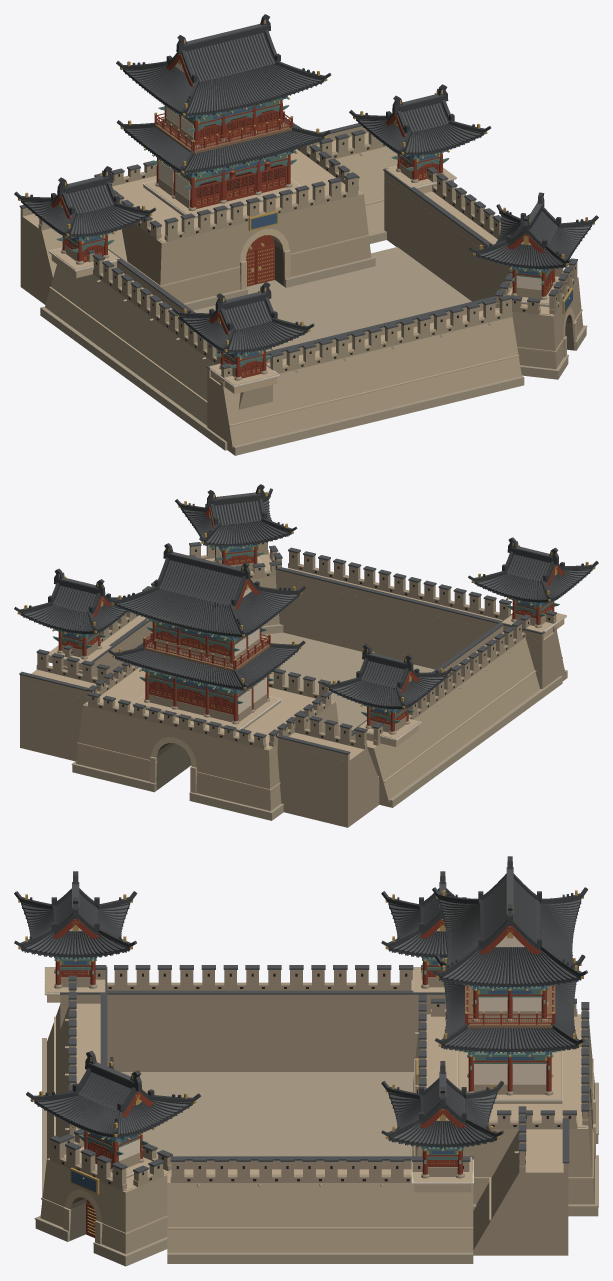
3 renders of one model, top to bottom at view 1: azimuth 30°, elevation 25°; view 2: azimuth 150°, elevation 25°; view 3: azimuth 270°, elevation 25°, orthographic. The views are drawn at different scales.
Visible parts, largest first — view 1: J01; view 2: J01; view 3: J01.
Part boxes in pixels (x1,y1,x2,y2): J01: (14, 14, 598, 455); J01: (14, 484, 598, 827); J01: (14, 856, 598, 1266).
Size of the model in its own units: 55.96 by 29.69 by 57.36.
